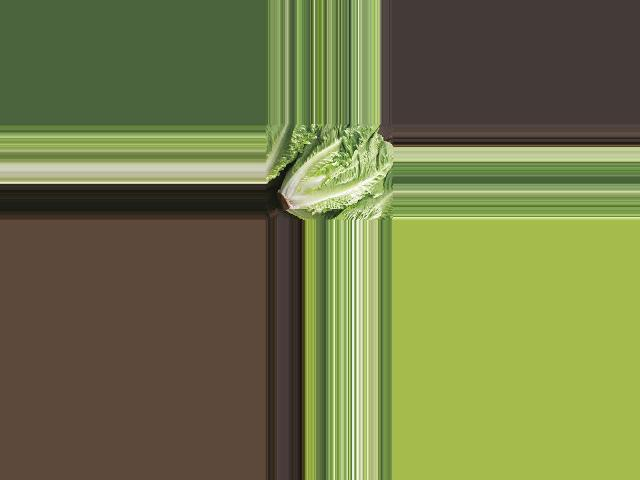lettuce: (272, 130, 391, 221)
